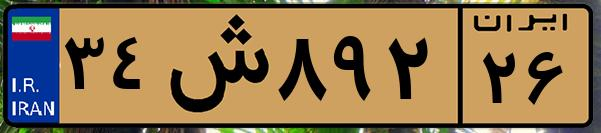2: (385, 28, 445, 110), (475, 38, 525, 113)
3: (57, 26, 110, 100)
4: (110, 28, 158, 98)
6: (525, 38, 570, 115)
8: (270, 28, 330, 110)
9: (330, 28, 385, 110)
ش: (158, 12, 270, 120)
